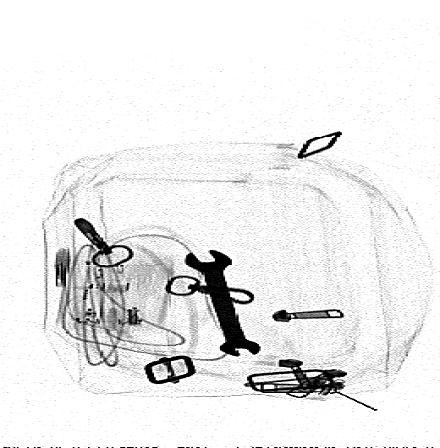Wrench: (185, 248, 262, 358)
